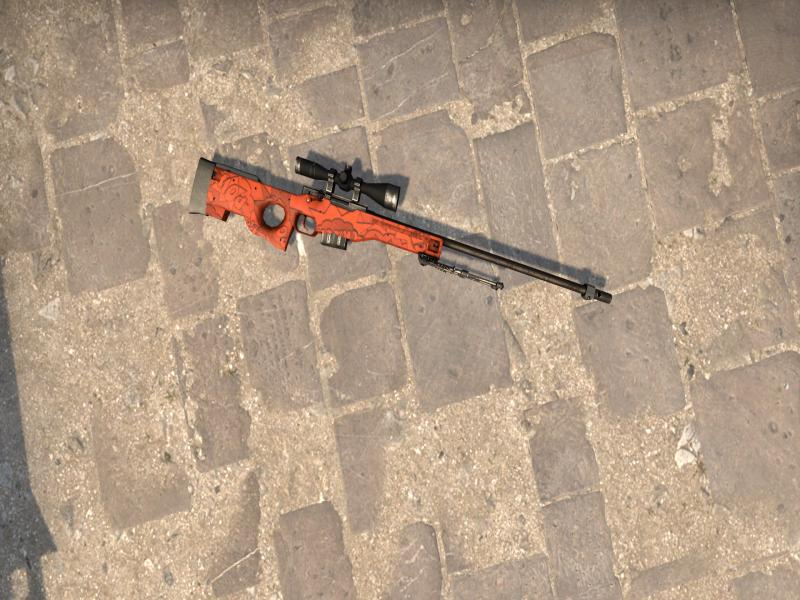AWP: (189, 156, 613, 303)
